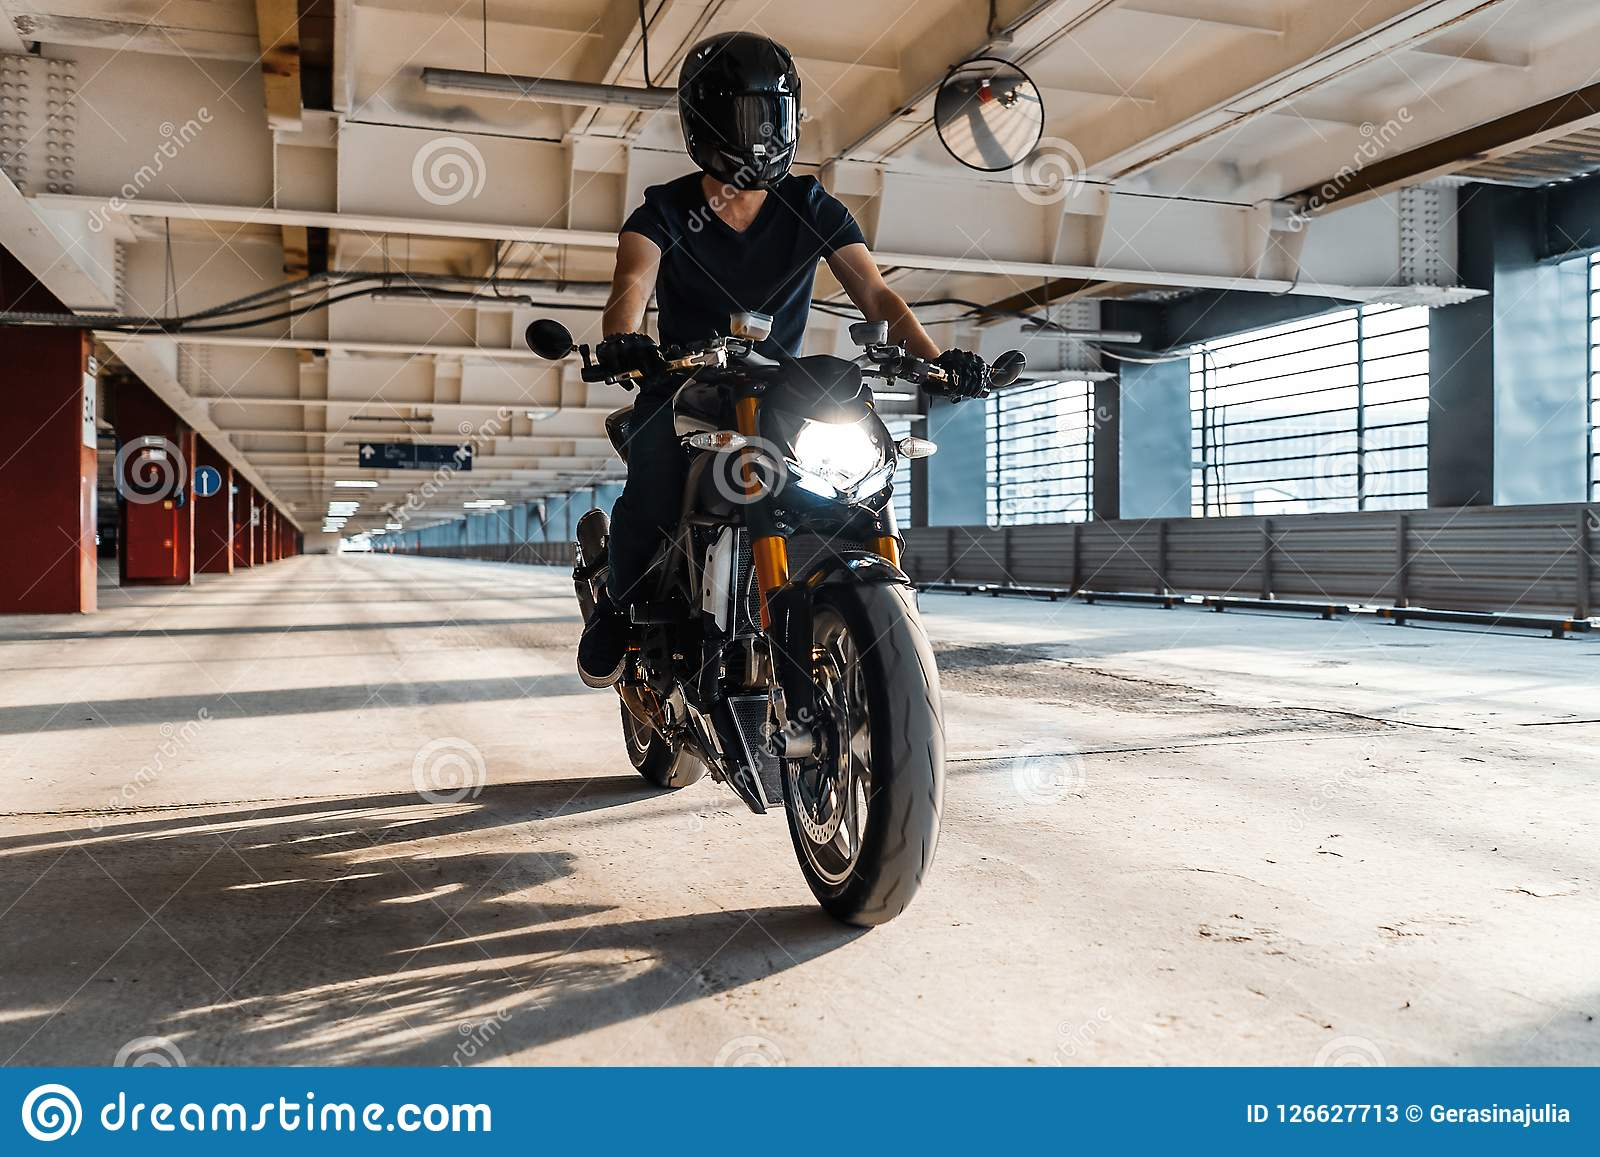helmet: (675, 27, 821, 198)
